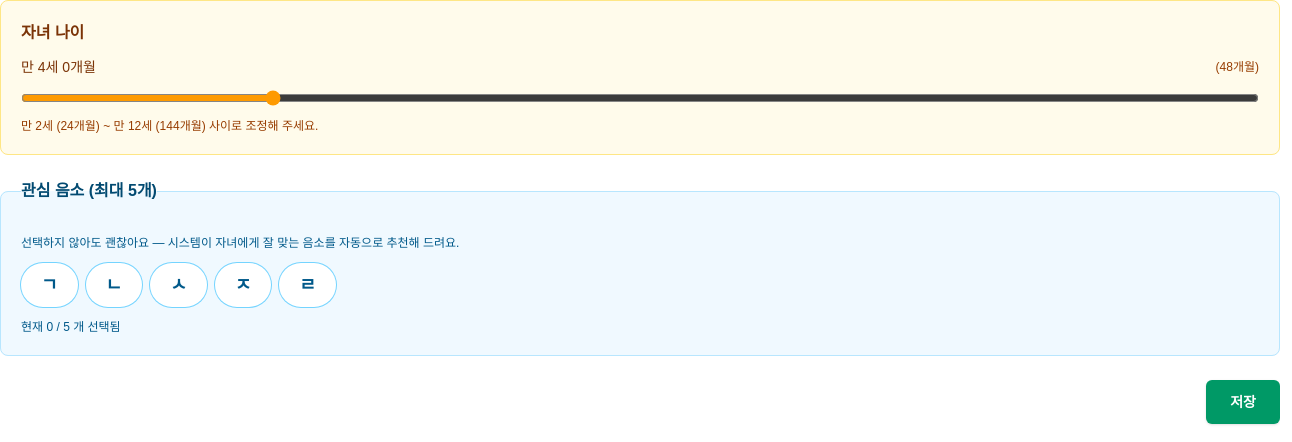
Test: ChildProfileForm — FR-C-PARENT-SETTINGS › [4] 음소 토글 → 선택 / 해제 / max 5개 제한
Click the button with test id "child-profile-phoneme-ㄱ".
click(49, 285)  # box [21,263,78,307]
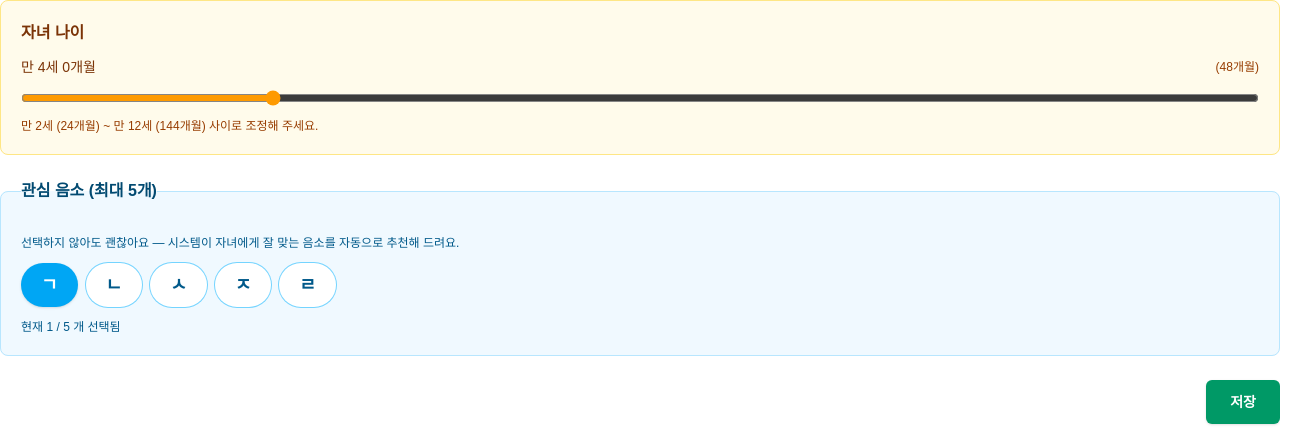
Expected: the button with test id "child-profile-phoneme-ㄱ" is pressed, [21,263,78,307]
추가 4개 선택 → 총 5개.
Click the button with test id "child-profile-phoneme-ㄴ".
click(114, 285)  # box [86,263,142,307]
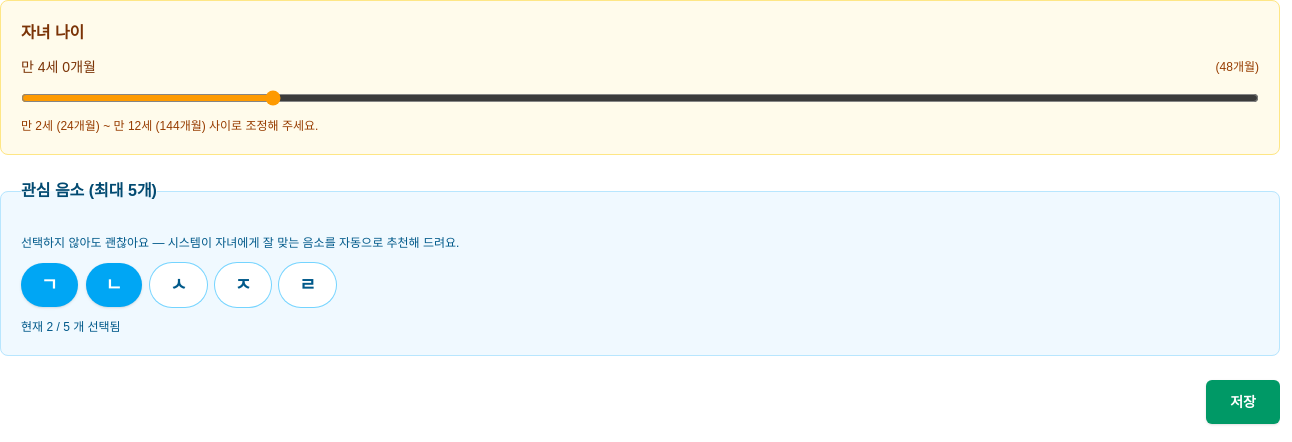
Click the button with test id "child-profile-phoneme-ㅅ".
click(178, 285)  # box [150,263,207,307]
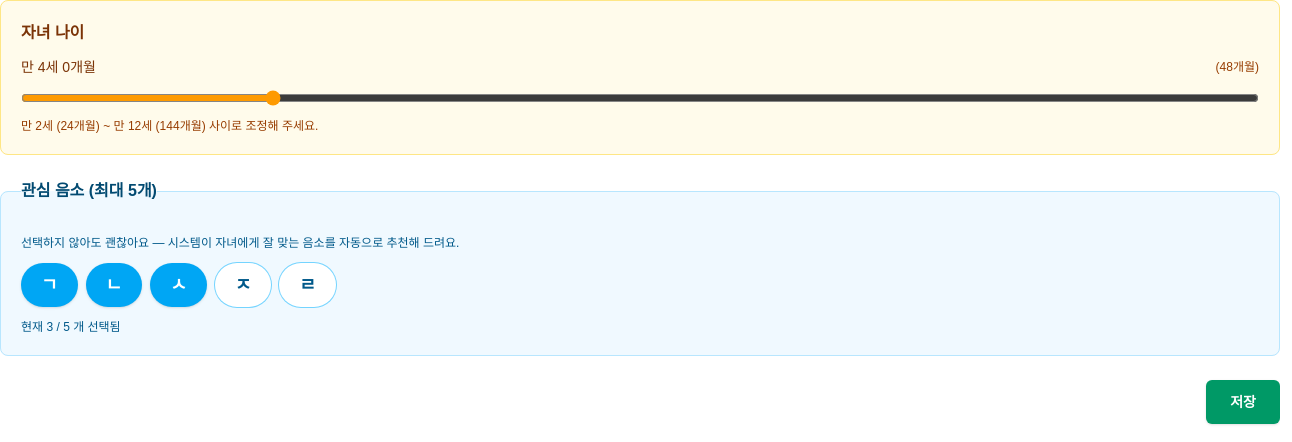
Click the button with test id "child-profile-phoneme-ㅈ".
click(243, 285)  # box [215,263,271,307]
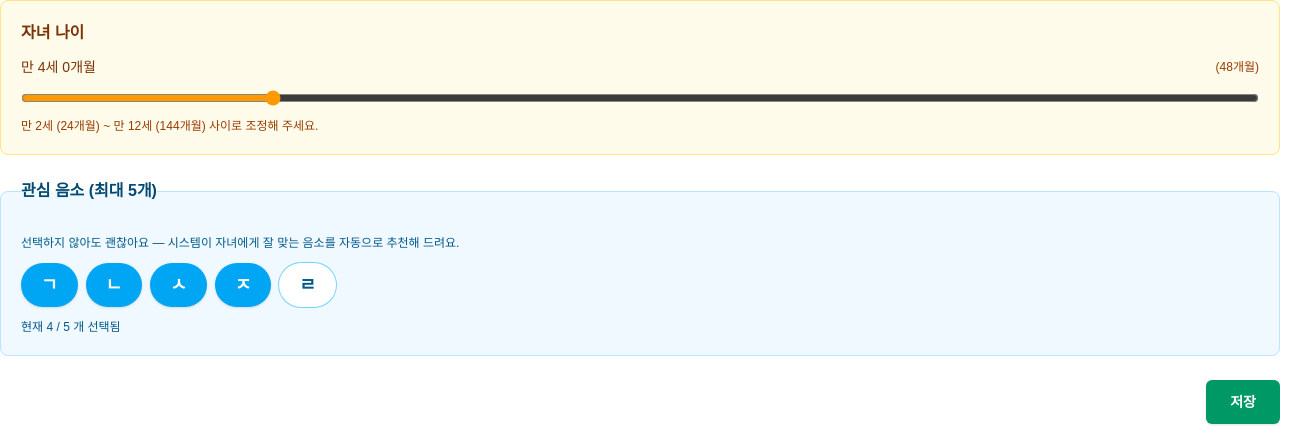
Click the button with test id "child-profile-phoneme-ㄹ".
click(308, 285)  # box [279,263,336,307]
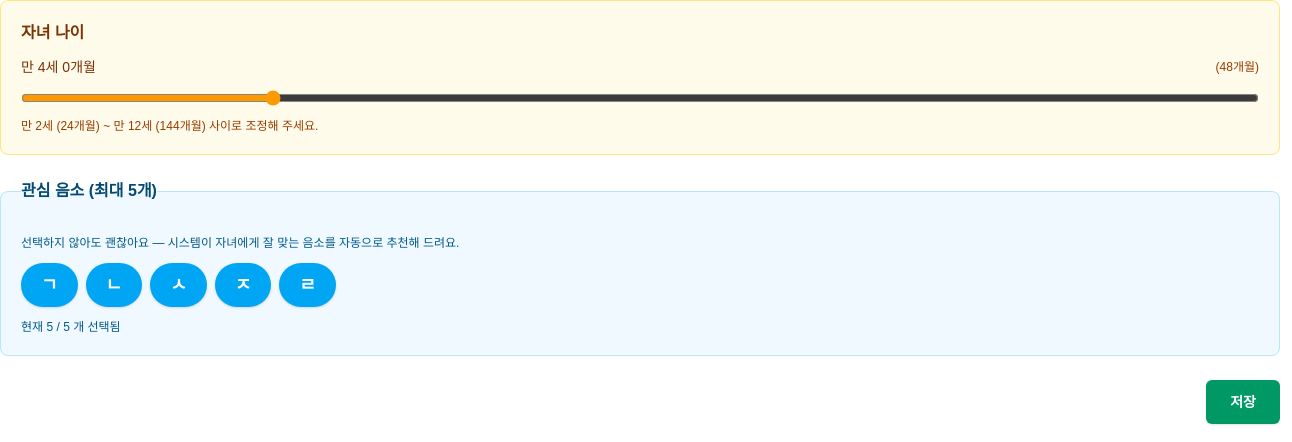
Expected: the text with test id "child-profile-phoneme-count" shows "5 / 5", [21,320,121,334]
5개 도달 상태에서 deselect 가능.
Click the button with test id "child-profile-phoneme-ㄱ".
click(49, 285)  # box [21,263,78,307]
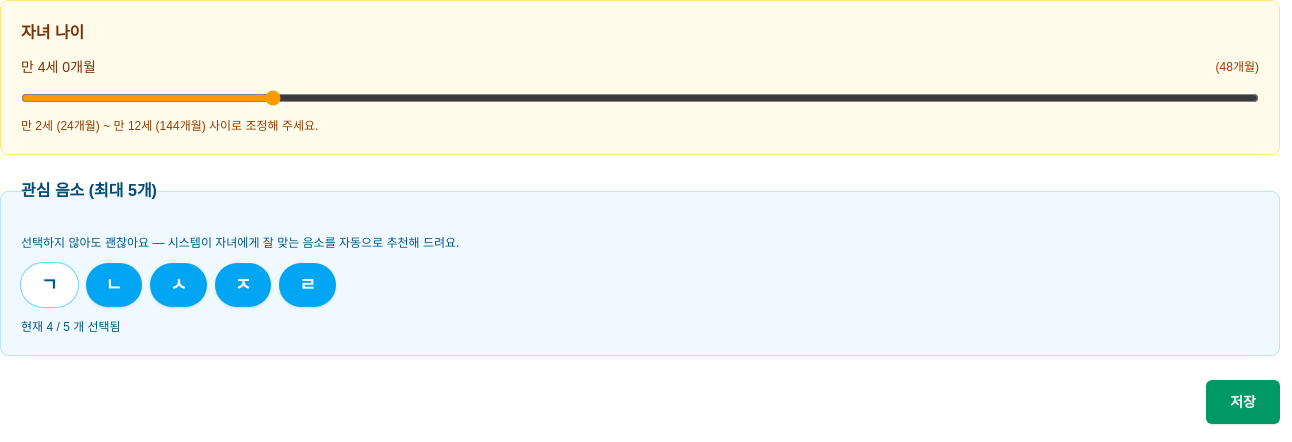
Expected: the text with test id "child-profile-phoneme-count" shows "4 / 5", [21,320,121,334]
